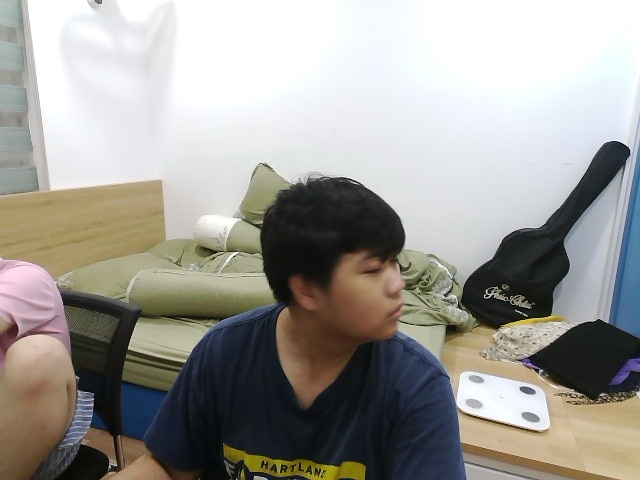face: (259, 177, 405, 339)
